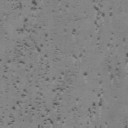oxide scale of temperature system: (2, 0, 114, 126), (105, 37, 126, 88), (72, 6, 105, 34)
